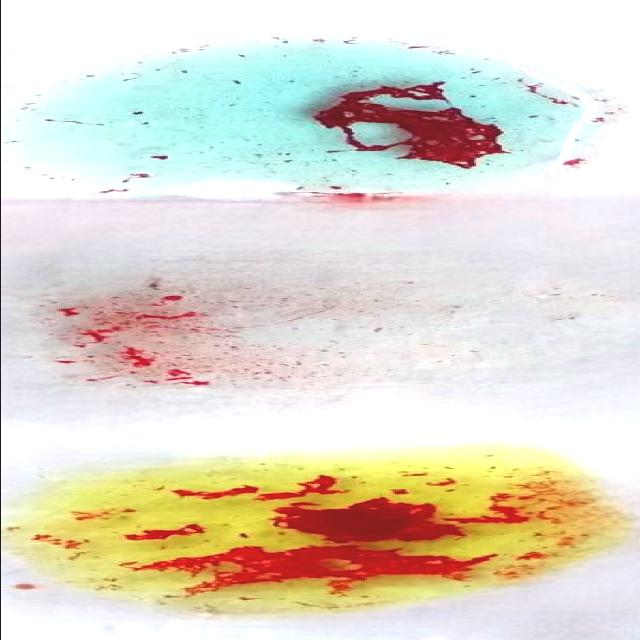A: (12, 39, 590, 190)
B: (0, 444, 630, 614)
D: (21, 268, 604, 396)
